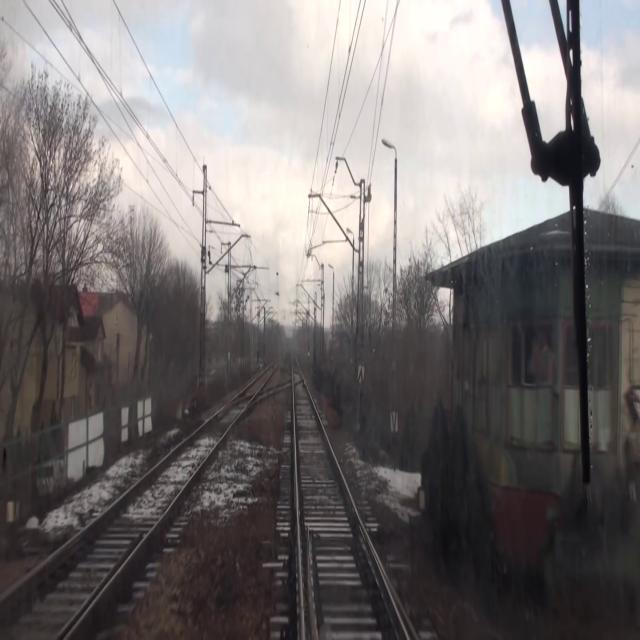rail-track: (0, 401, 246, 639), (295, 381, 404, 639), (245, 362, 276, 392)
